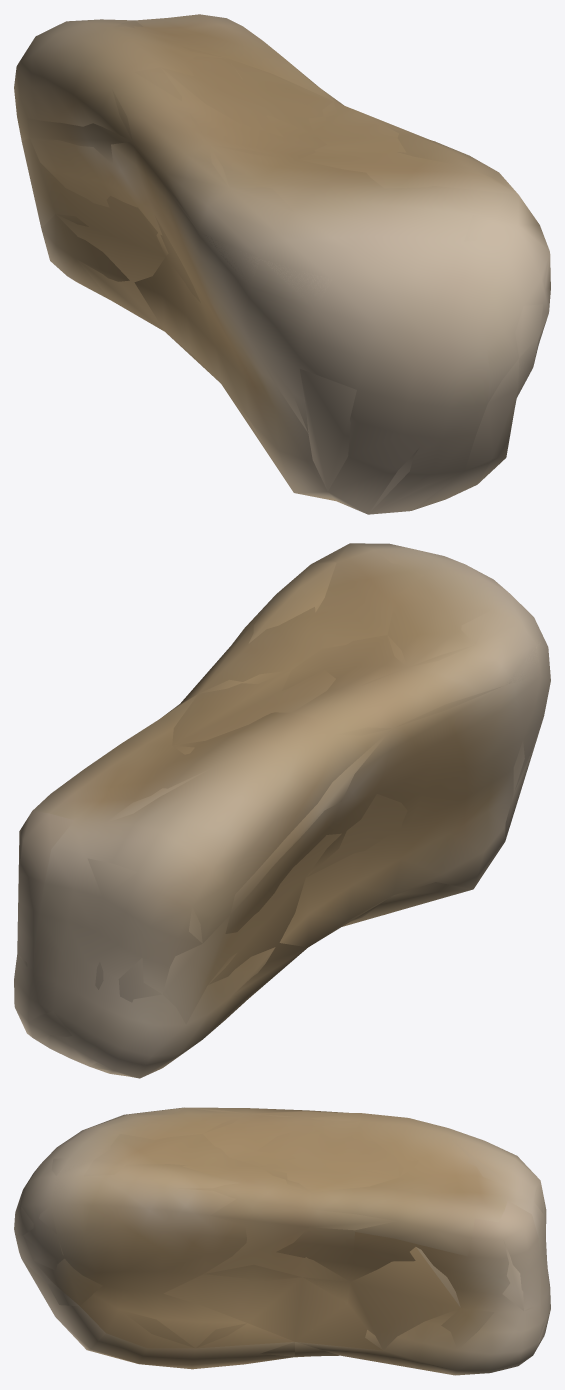
File: R carpi intermedium.fbx
3 views of the same model, one above another, from view 1: azimuth 30°, elevation 25°; view 2: azimuth 150°, elevation 25°; view 3: azimuth 270°, elevation 25° (orthographic). The views are drawn at different scales.
Parts seen in each view (by area): view 1: R carpi intermedium, R carpi intermedium low; view 2: R carpi intermedium, R carpi intermedium low; view 3: R carpi intermedium, R carpi intermedium low.
Boxes of the visible parts, x1,y1,x2,y2 form: R carpi intermedium: [14, 14, 550, 514]; R carpi intermedium low: [21, 20, 550, 514]; R carpi intermedium: [14, 543, 550, 1078]; R carpi intermedium low: [17, 543, 546, 1076]; R carpi intermedium: [14, 1107, 550, 1375]; R carpi intermedium low: [15, 1107, 548, 1374].
Size of the model in its own units: 2.28 by 2.48 by 5.71.
